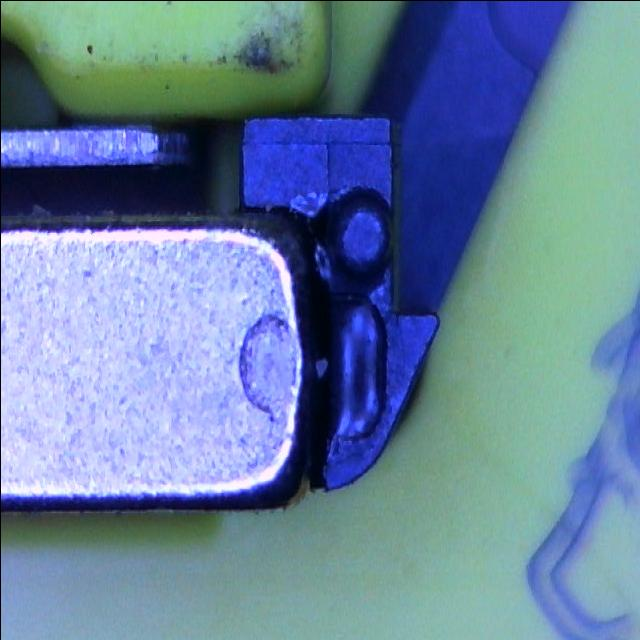over: (322, 291, 388, 444)
